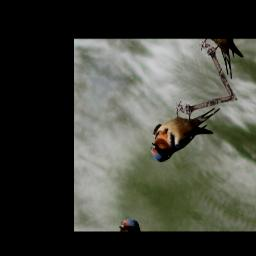Swallow: (143, 82, 221, 181)
